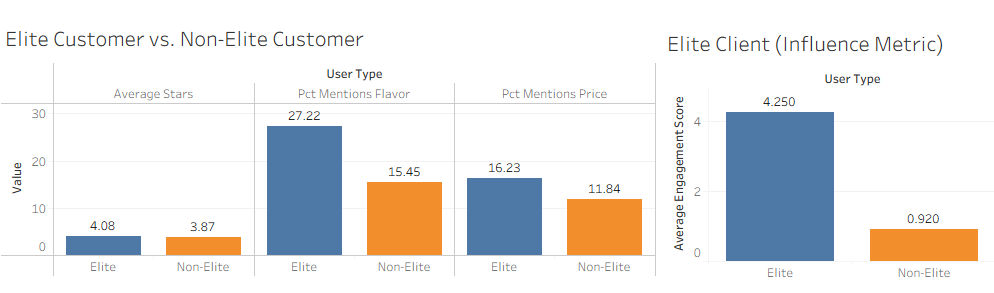

Layout of this report page (visuals, bound fields, positions):
{"tool":"tableau","page":{"name":"Dashboard 3","canvas":[1000,800],"ordinal":2},"visuals":[{"type":"title","box":[8,8,984,42]},{"type":"worksheet","title":"Elite Customer vs. Non-Elite Customer","mark":"Automatic","cols":["user_type"],"box":[2,87,655,257]},{"type":"worksheet","title":"Elite Client (Influence Metric)","mark":"Automatic","rows":["average_engagement_score"],"cols":["user_type"],"box":[664,92,333,257]}]}

Visuals, with their boxes on the page's 1000x800 design canvas (x1, y1, x2, y2). These are canvas units, not pixel positions in the 994x293 screenshot, which may show the page scaled, cropped or inside an application window:
title: BBox(8, 8, 992, 50)
"Elite Customer vs. Non-Elite Customer" worksheet: BBox(2, 87, 657, 344)
"Elite Client (Influence Metric)" worksheet: BBox(664, 92, 997, 349)
